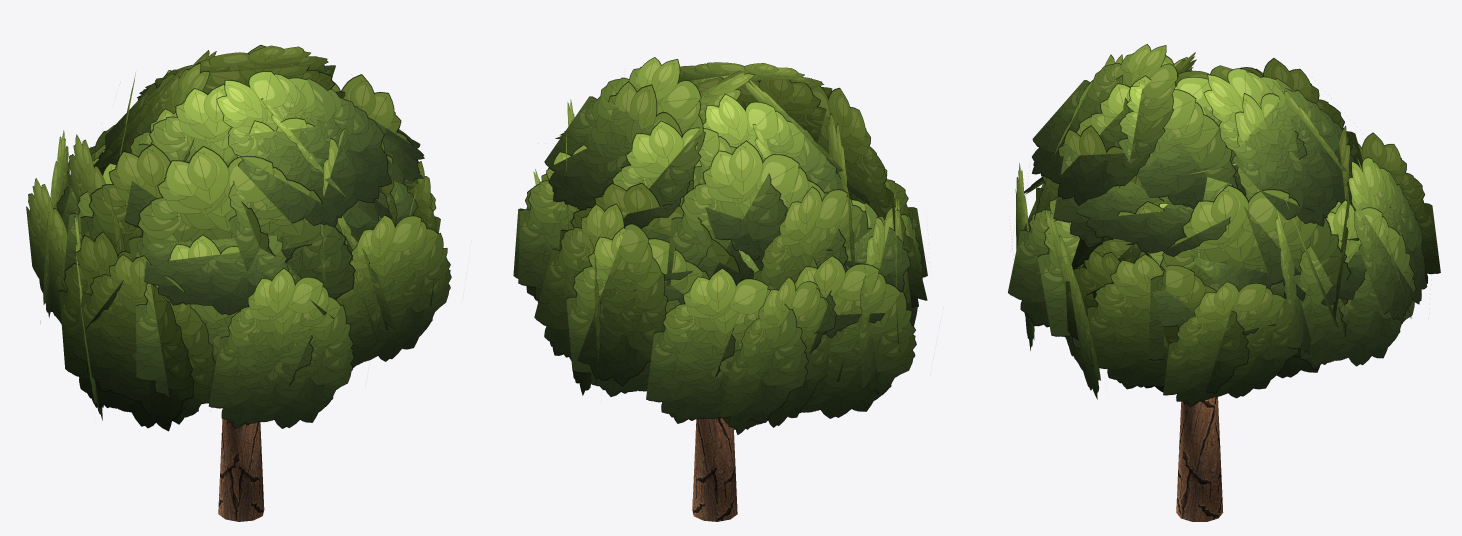
File: prop_oak2.glb
The picture shows the model from 3 angles, left to right: view 1: azimuth 30°, elevation 25°; view 2: azimuth 150°, elevation 25°; view 3: azimuth 270°, elevation 25°; orthographic projection.
Parts seen in each view (by area): view 1: leaf_l2_8, leaf_top_16, leaf_top_7, leaf_l0_8, leaf_l2_6, leaf_l2_5, leaf_l2_15, leaf_top_15, leaf_top_6, leaf_l2_7, trunk, leaf_l1_5 (+16 smaller); view 2: leaf_l1_4, leaf_l1_2, leaf_top_11, leaf_l2_4, leaf_top_4, leaf_l1_5, leaf_top_13, leaf_top_12, leaf_top_5, leaf_l1_3, leaf_top_7, trunk (+14 smaller); view 3: leaf_top_11, leaf_top_16, leaf_l0_0, leaf_l0_1, leaf_top_1, leaf_l1_1, leaf_l1_2, leaf_top_17, leaf_l0_17, leaf_top_10, trunk, leaf_l2_9 (+17 smaller).
Boxes of the visible parts, x1=… form: leaf_l2_8: x1=208, y1=268, x2=354, y2=429; leaf_top_16: x1=216, y1=71, x2=392, y2=227; leaf_top_7: x1=129, y1=146, x2=355, y2=299; leaf_l0_8: x1=336, y1=215, x2=451, y2=367; leaf_l2_6: x1=74, y1=254, x2=215, y2=424; leaf_l2_5: x1=59, y1=231, x2=194, y2=431; leaf_l2_15: x1=144, y1=235, x2=289, y2=315; leaf_top_15: x1=124, y1=84, x2=312, y2=262; leaf_top_6: x1=80, y1=144, x2=309, y2=312; leaf_l2_7: x1=136, y1=234, x2=333, y2=402; trunk: x1=218, y1=418, x2=264, y2=521; leaf_l1_5: x1=26, y1=178, x2=76, y2=323; leaf_l1_4: x1=646, y1=268, x2=808, y2=424; leaf_l1_2: x1=534, y1=203, x2=667, y2=386; leaf_top_11: x1=544, y1=57, x2=705, y2=228; leaf_l2_4: x1=794, y1=255, x2=916, y2=418; leaf_top_4: x1=666, y1=140, x2=848, y2=301; leaf_l1_5: x1=720, y1=277, x2=830, y2=434; leaf_top_13: x1=693, y1=94, x2=842, y2=260; leaf_top_12: x1=606, y1=120, x2=787, y2=284; leaf_top_5: x1=753, y1=186, x2=871, y2=288; leaf_l1_3: x1=566, y1=227, x2=735, y2=396; leaf_top_7: x1=811, y1=86, x2=895, y2=230; trunk: x1=692, y1=418, x2=737, y2=521; leaf_top_11: x1=1203, y1=68, x2=1355, y2=226; leaf_top_16: x1=1032, y1=44, x2=1177, y2=205; leaf_l0_0: x1=1087, y1=254, x2=1249, y2=393; leaf_l0_1: x1=1163, y1=281, x2=1298, y2=406; leaf_top_1: x1=1149, y1=185, x2=1375, y2=360; leaf_l1_1: x1=1287, y1=199, x2=1416, y2=369; leaf_l1_2: x1=1348, y1=157, x2=1427, y2=323; leaf_top_17: x1=1053, y1=75, x2=1237, y2=255; leaf_l0_17: x1=1076, y1=177, x2=1232, y2=256; leaf_top_10: x1=1118, y1=77, x2=1307, y2=208; trunk: x1=1176, y1=396, x2=1223, y2=521; leaf_l2_9: x1=1008, y1=197, x2=1056, y2=327.
Bounding box in the file's own units: 4.79 × 5.26 × 4.72.
2 materials, 2 textured.
